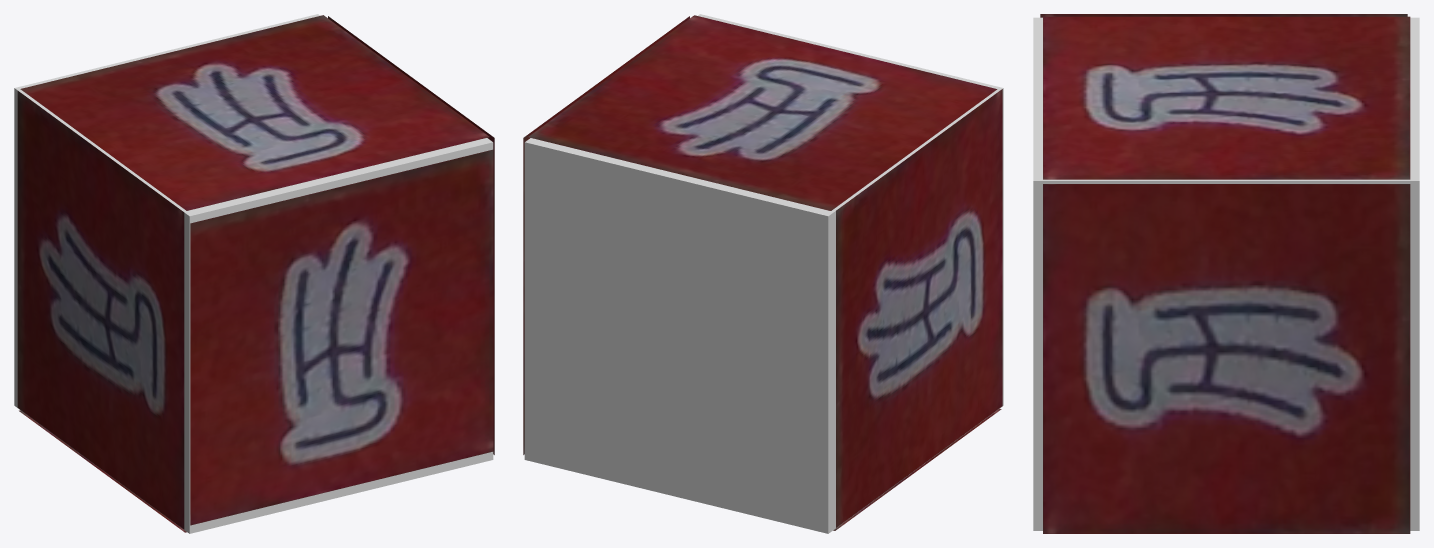
3 renders of one model, left to right at view 1: azimuth 30°, elevation 25°; view 2: azimuth 150°, elevation 25°; view 3: azimuth 270°, elevation 25°, orthographic. The views are drawn at different scales.
Parts seen in each view (by area): view 1: R2.004, R2.003, R2.001, Link32, R2; view 2: Link32, R2.003, R2.001, R2; view 3: R2, R2.001, Link32, R2.003.
Boxes of the visible parts, x1,y1,x2,y2 form: R2.004: [190, 149, 493, 525]; R2.003: [17, 91, 184, 529]; R2.001: [20, 15, 489, 210]; Link32: [14, 14, 493, 533]; R2: [328, 16, 494, 454]; Link32: [524, 14, 1003, 533]; R2.003: [836, 89, 1002, 527]; R2.001: [528, 15, 997, 210]; R2: [523, 16, 689, 454]; R2: [1043, 184, 1410, 533]; R2.001: [1043, 16, 1410, 179]; Link32: [1033, 17, 1419, 530]; R2.003: [1040, 14, 1407, 17].
Size of the model in its own units: 0.3592 by 0.3508 by 0.3533.
1 material, 1 textured.
